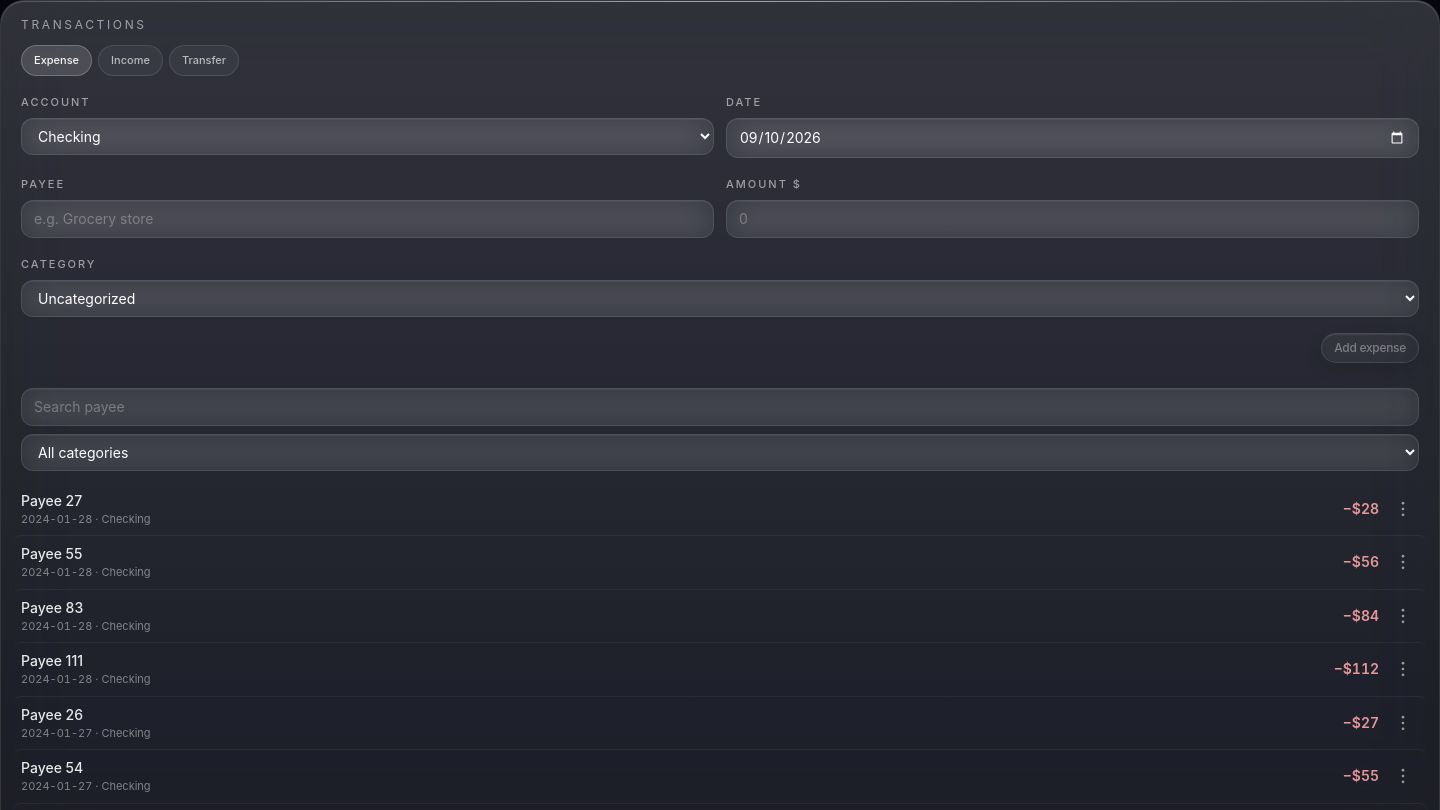
Test case: TransactionsSection › search and filter › filters the full transaction history by payee, not just the current page
This screenshot has width=1440, height=810.
Expected: the text "Very Special Coffee Co" is not shown
Type "special" into the field named "Search transactions by payee". click: (720, 406)
box: [21,388,1419,426]
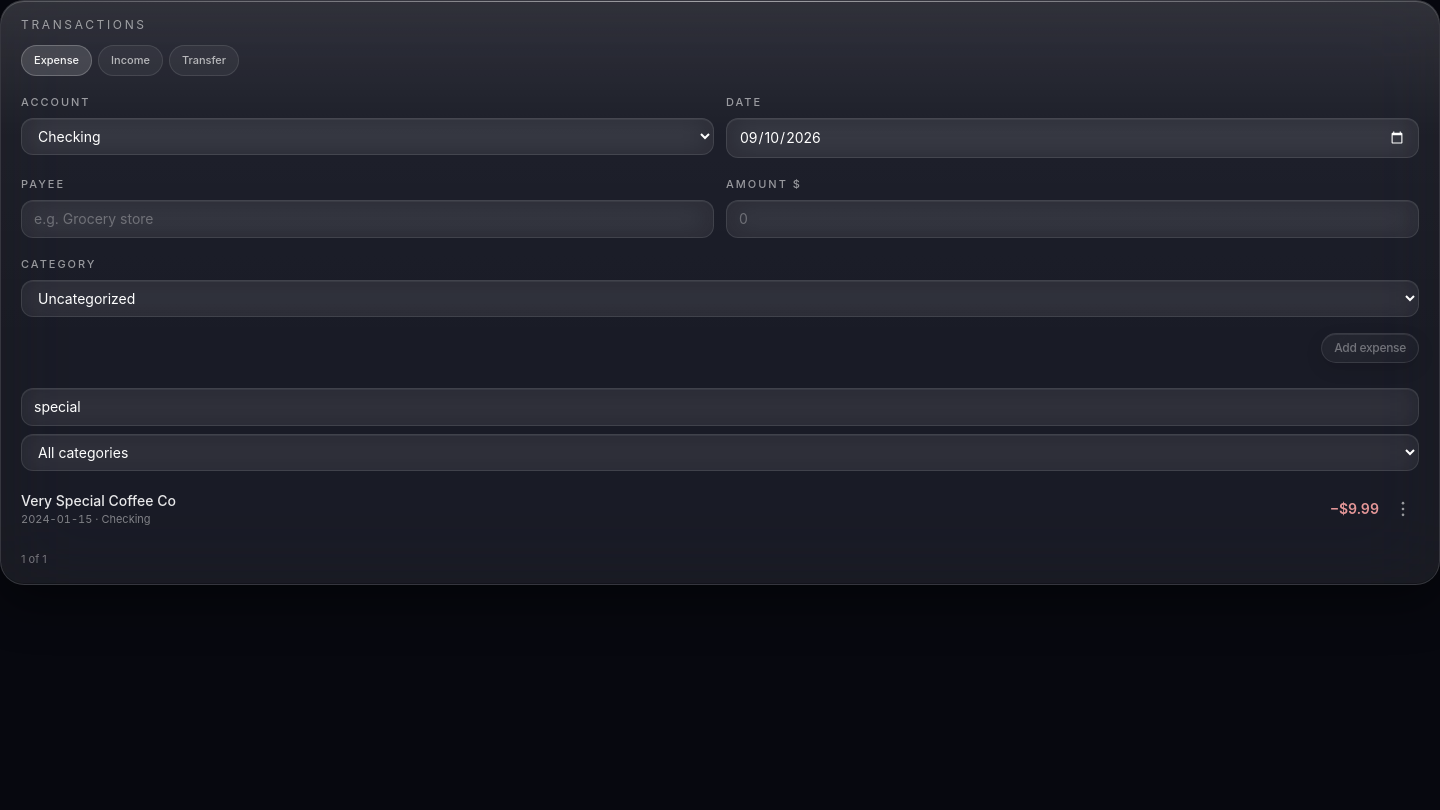
Result: the text "Very Special Coffee Co" is shown at [21,492,176,508]
Result: the text "1 of 1" is shown at [21,551,47,568]
Result: the button "Payee 27" is gone
